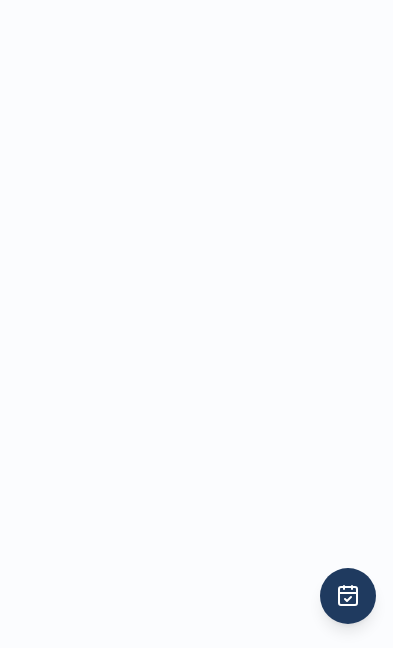
Floating assistant widget › renders model text as text, never HTML
The image size is (393, 648).
Click the button named "Open EventHub assistant" at (348, 596), box [320, 568, 376, 624]
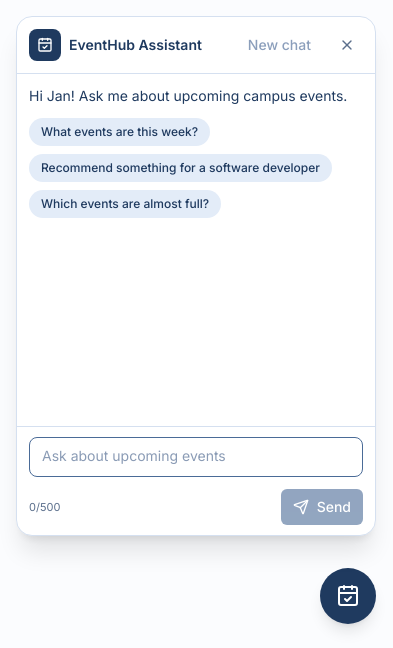
Click the button "What events are this week?" at (120, 132), box [29, 118, 210, 146]
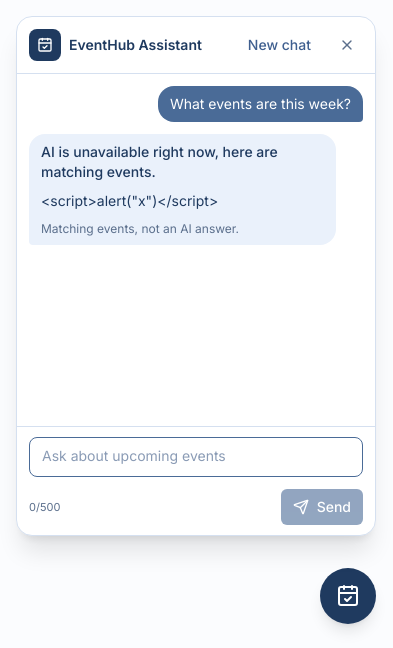
Expected: the text "<script>alert(\"x\")</script>" is shown, [41, 192, 218, 209]
Expected: the text "AI is unavailable right now, here are matching events." is shown, [41, 143, 278, 180]
